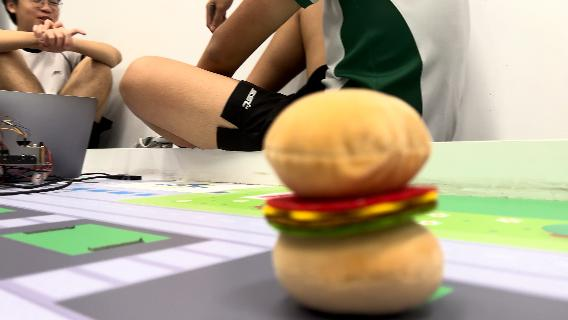burger: (263, 88, 444, 312)
